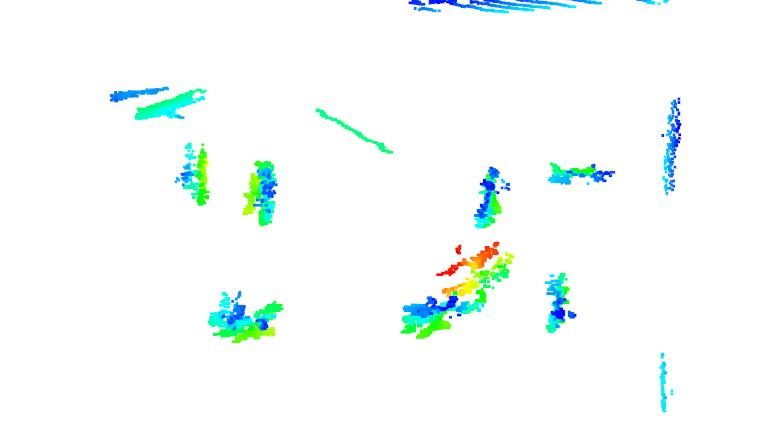chickpea: (435, 242, 514, 310), (206, 289, 286, 344), (399, 294, 480, 341), (239, 157, 282, 233), (470, 163, 515, 230), (175, 139, 216, 210), (541, 269, 578, 335), (546, 160, 619, 192)
